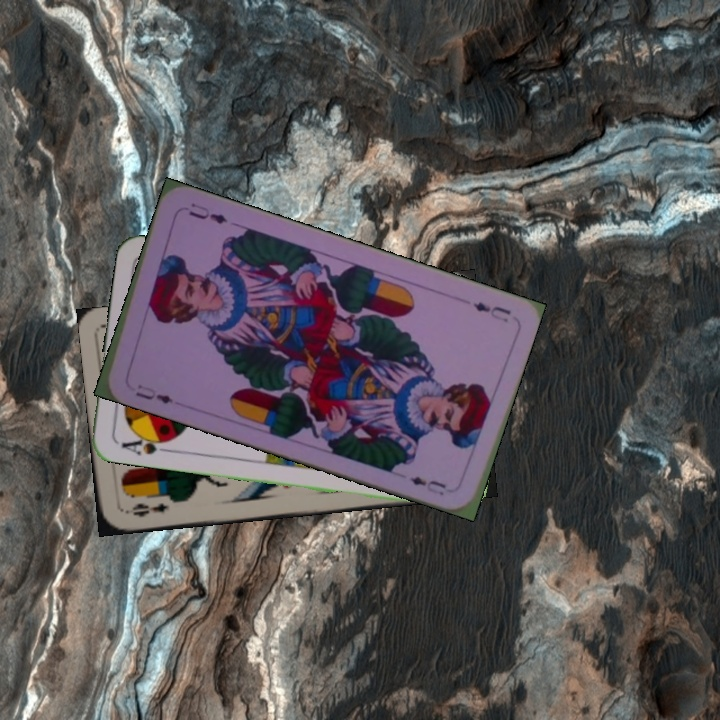EO: (128, 498, 171, 520)
EU: (468, 297, 514, 325), (131, 380, 175, 407)
SA: (117, 429, 175, 457)
